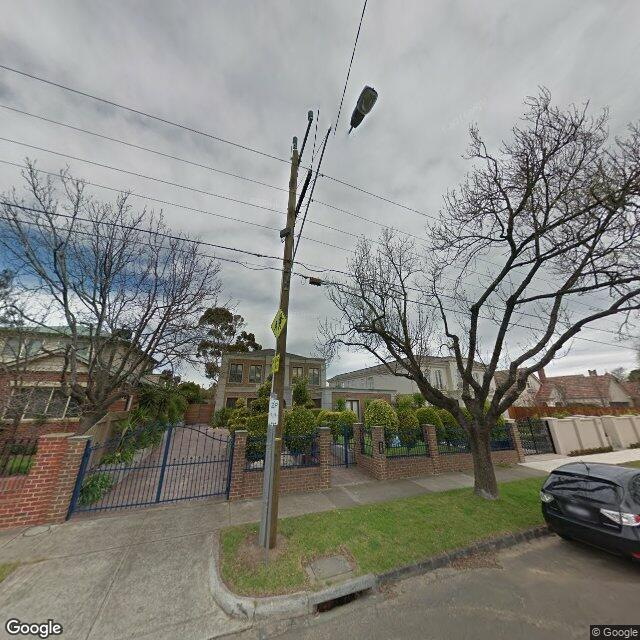HV-transmission: (291, 109, 316, 172)
crossarm: (298, 119, 313, 169)
streetlight: (289, 85, 379, 272)
timber-pole: (255, 152, 299, 551)
